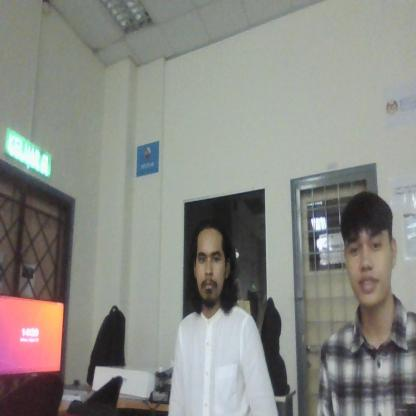Open-Eyes: (343, 237, 387, 263), (194, 244, 222, 274)
